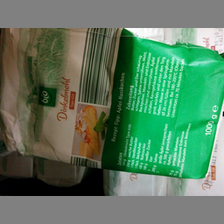flour: (2, 28, 224, 181)
